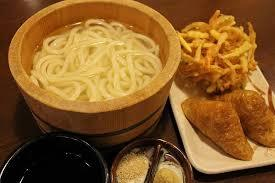kakiage: (175, 6, 257, 93)
kamaage: (12, 5, 171, 106)
